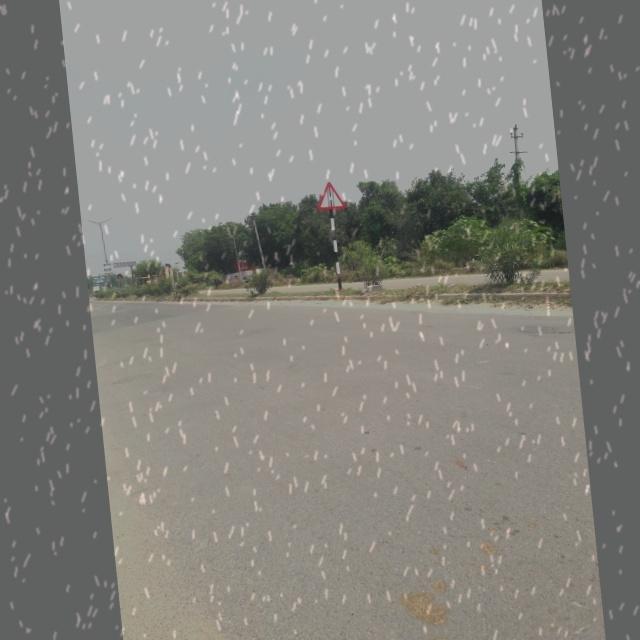Gap_in_Median: (309, 174, 353, 215)
